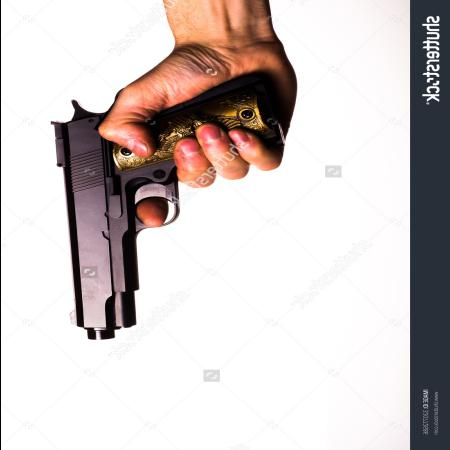Pistol: (46, 74, 282, 340)
